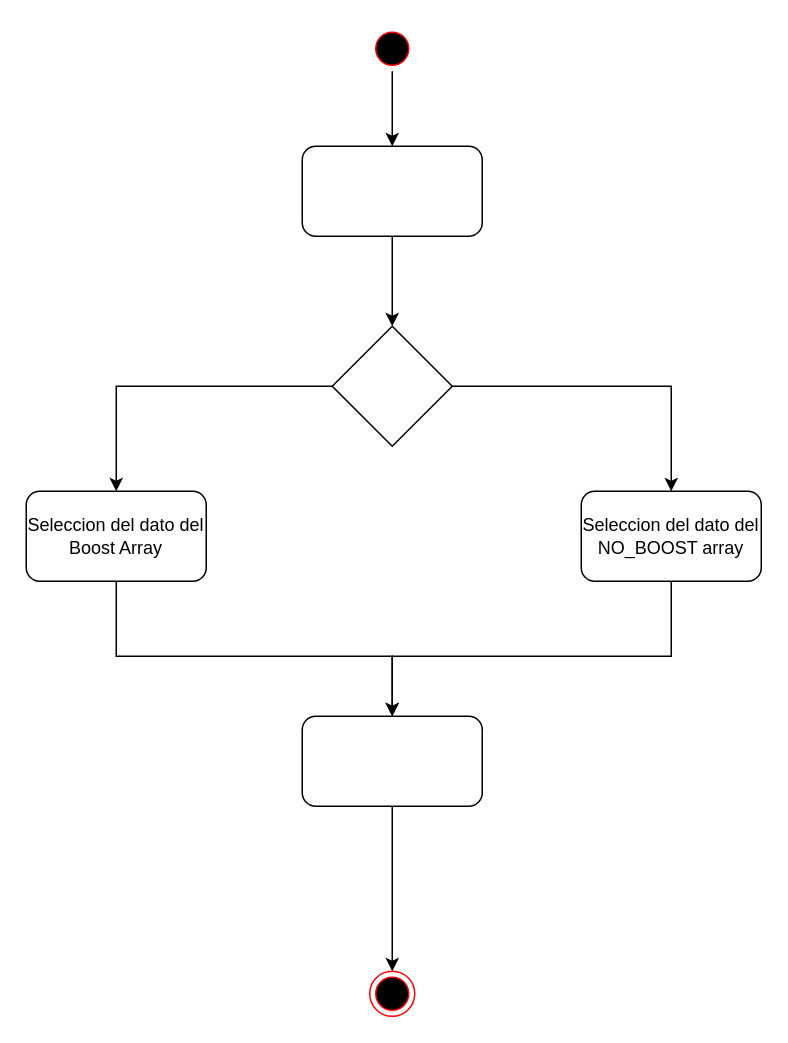
This 788x1043 diagram has some shape labels left out. Each missing label, with the centre of its shape:
"Envio del comando al TPIC" belongs at (391,760).
"Voltage, mode" belongs at (391,190).
